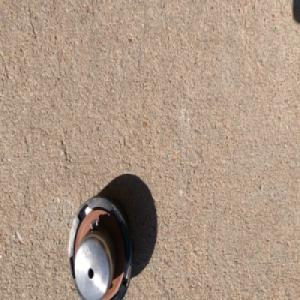FuelCap: (66, 192, 135, 299)
